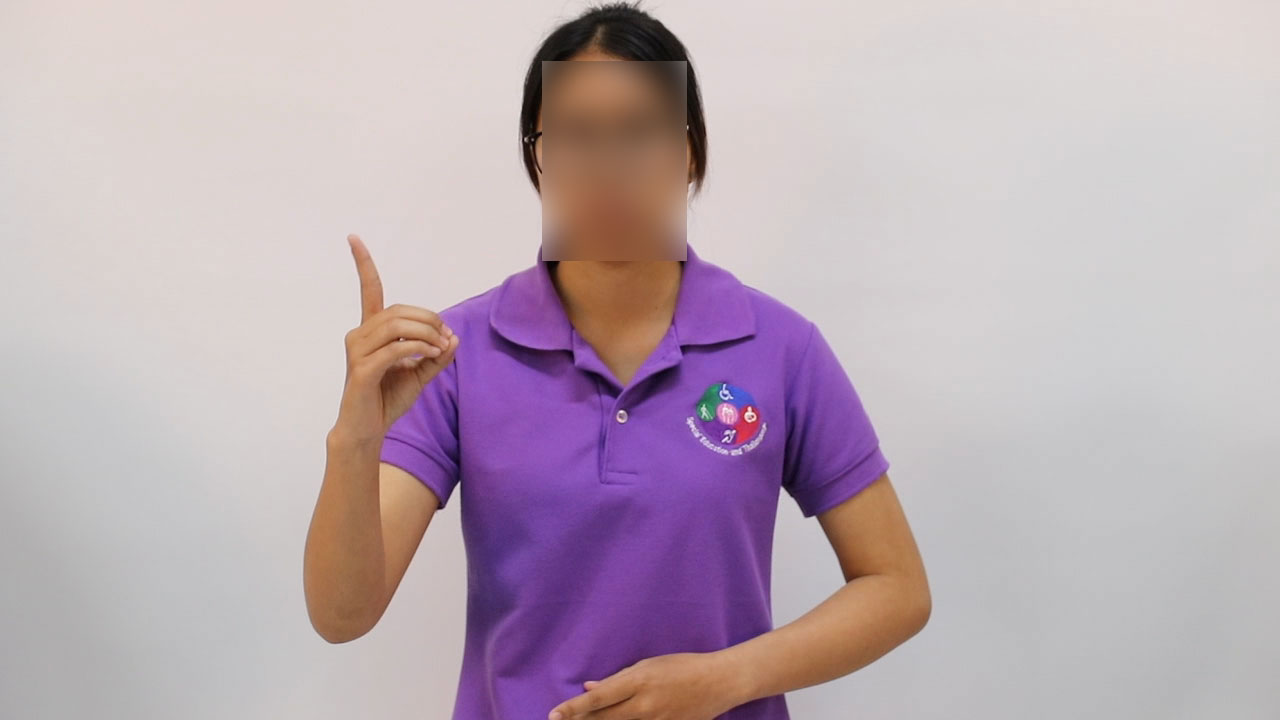dor: (323, 221, 468, 434)
